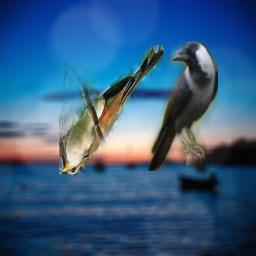Crow: (148, 41, 218, 171)
Cuckoo: (59, 45, 164, 175)
